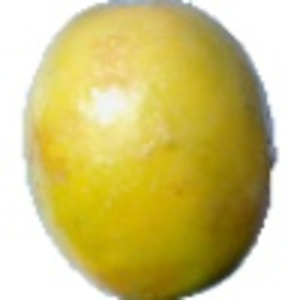maracujá: (22, 1, 279, 300)
